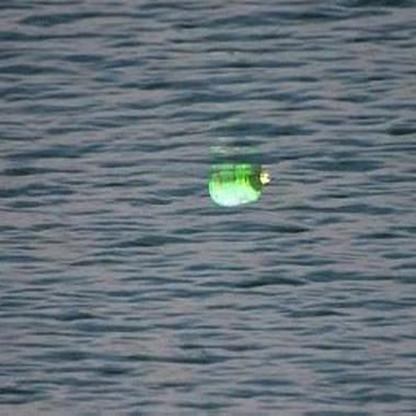plastic bottle: (209, 169, 273, 207)
